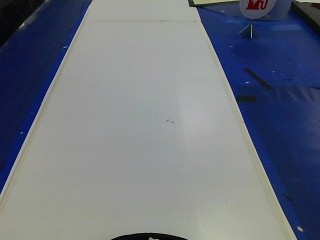battery: (237, 0, 275, 20)
